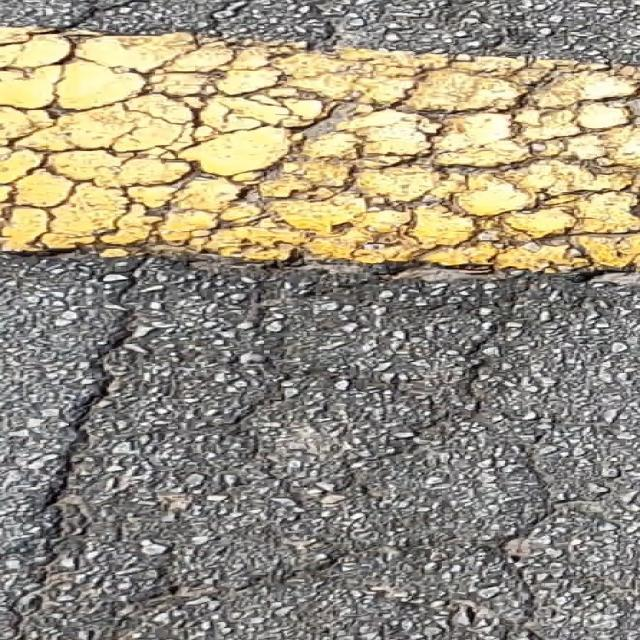GRIETA: (1, 272, 146, 639)
PIEL DE COCODRILO: (0, 26, 639, 639)
